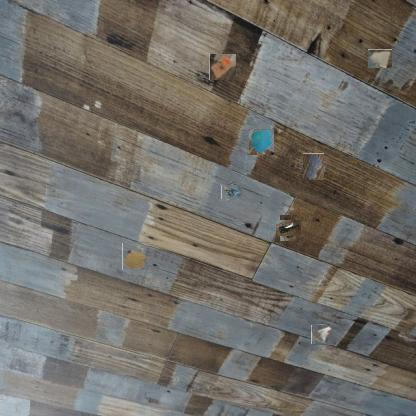dirty: (210, 54, 236, 81), (248, 129, 274, 155), (368, 49, 392, 68), (277, 218, 299, 238), (312, 324, 332, 345), (223, 184, 241, 201)
liquid: (122, 242, 149, 270), (301, 155, 326, 179)
